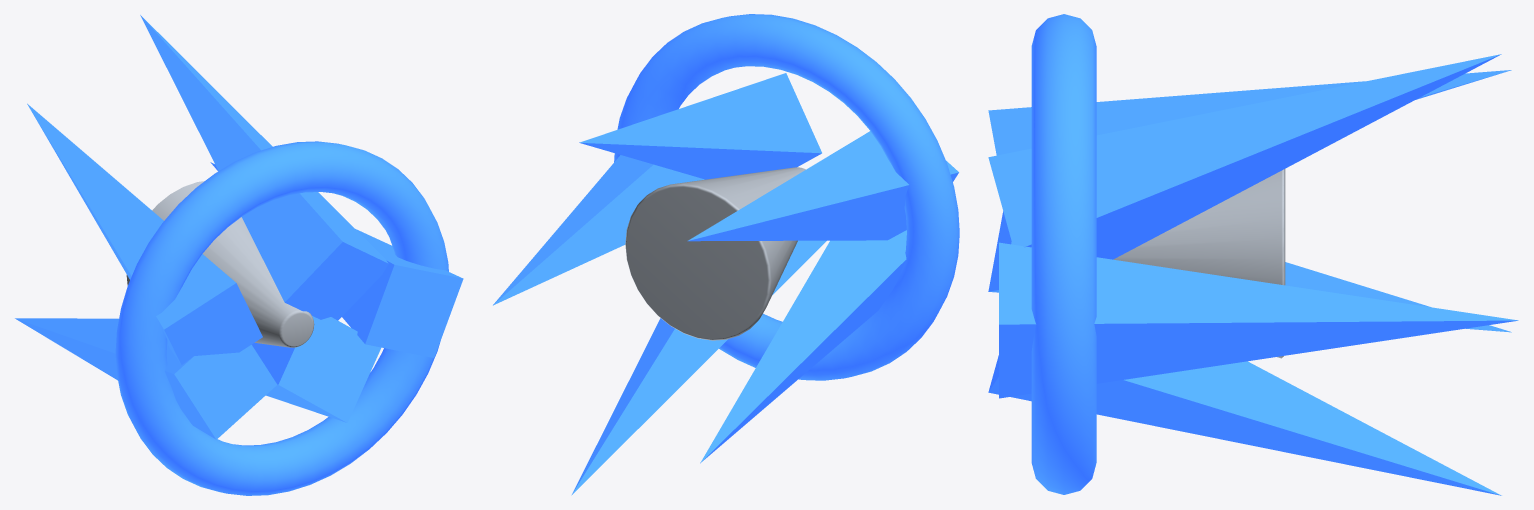
The model's file is vfx_muzzle_lance.glb.
3 views of the same model, side by side, from view 1: azimuth 30°, elevation 25°; view 2: azimuth 150°, elevation 25°; view 3: azimuth 270°, elevation 25° (orthographic). The views are drawn at different scales.
Visible parts, largest first — view 1: vfx_muzzle_lance_ring, vfx_muzzle_lance_petal1, vfx_muzzle_lance_petal2, vfx_muzzle_lance_petal3, vfx_muzzle_lance_petal0, vfx_muzzle_lance_petal4, vfx_muzzle_lance_core; view 2: vfx_muzzle_lance_ring, vfx_muzzle_lance_core, vfx_muzzle_lance_petal1, vfx_muzzle_lance_petal3, vfx_muzzle_lance_petal2, vfx_muzzle_lance_petal0, vfx_muzzle_lance_petal4; view 3: vfx_muzzle_lance_petal0, vfx_muzzle_lance_ring, vfx_muzzle_lance_petal1, vfx_muzzle_lance_petal4, vfx_muzzle_lance_core, vfx_muzzle_lance_petal2, vfx_muzzle_lance_petal3.
Part boxes in pixels (bbox=[...]): vfx_muzzle_lance_ring: bbox=[115, 141, 448, 495]; vfx_muzzle_lance_petal1: bbox=[140, 15, 388, 320]; vfx_muzzle_lance_petal2: bbox=[27, 103, 262, 365]; vfx_muzzle_lance_petal3: bbox=[15, 318, 277, 439]; vfx_muzzle_lance_petal0: bbox=[210, 162, 463, 357]; vfx_muzzle_lance_petal4: bbox=[251, 316, 380, 422]; vfx_muzzle_lance_core: bbox=[126, 181, 314, 347]; vfx_muzzle_lance_ring: bbox=[614, 14, 959, 380]; vfx_muzzle_lance_core: bbox=[625, 167, 805, 340]; vfx_muzzle_lance_petal1: bbox=[579, 73, 821, 179]; vfx_muzzle_lance_petal3: bbox=[700, 230, 906, 463]; vfx_muzzle_lance_petal2: bbox=[687, 131, 958, 241]; vfx_muzzle_lance_petal0: bbox=[493, 155, 704, 305]; vfx_muzzle_lance_petal4: bbox=[571, 240, 826, 495]; vfx_muzzle_lance_petal0: bbox=[999, 242, 1518, 398]; vfx_muzzle_lance_ring: bbox=[1031, 14, 1096, 494]; vfx_muzzle_lance_petal1: bbox=[988, 54, 1501, 259]; vfx_muzzle_lance_petal4: bbox=[988, 355, 1501, 495]; vfx_muzzle_lance_core: bbox=[1113, 169, 1285, 358]; vfx_muzzle_lance_petal2: bbox=[988, 70, 1511, 155]; vfx_muzzle_lance_petal3: bbox=[988, 211, 1511, 332].
Size of the model in its own units: 0.37 by 0.3708 by 0.4082.
